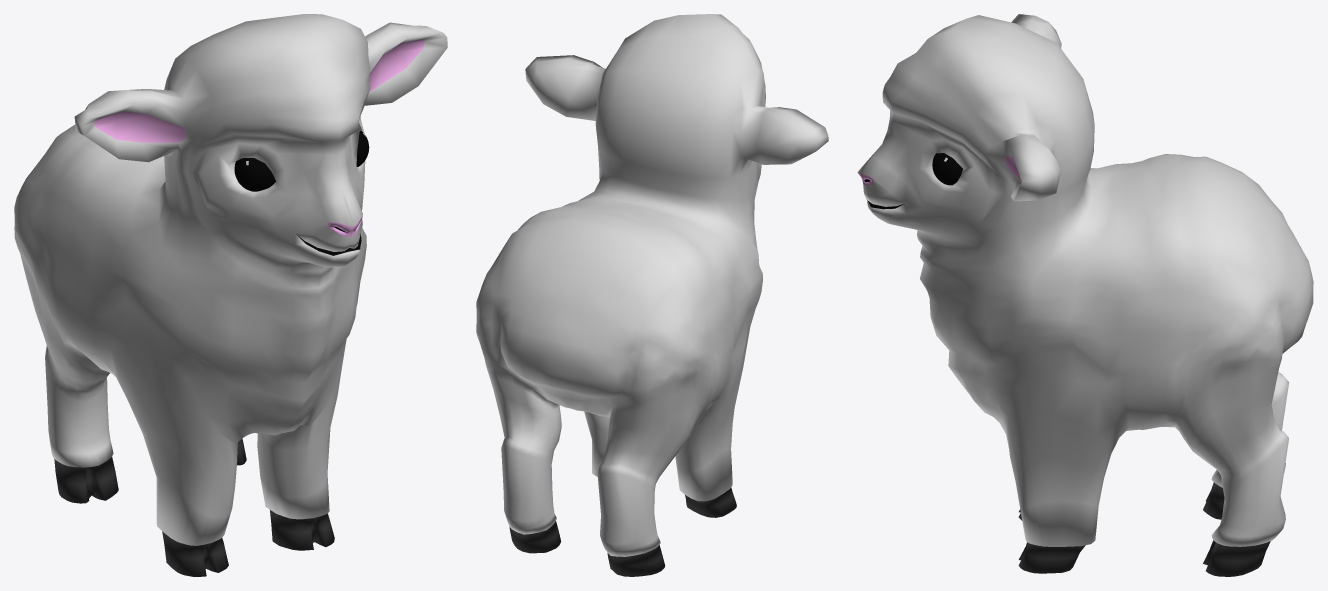
The model's file is sheep_1784489105472_model.glb.
3 renders of one model, left to right at view 1: azimuth 30°, elevation 25°; view 2: azimuth 150°, elevation 25°; view 3: azimuth 270°, elevation 25°, orthographic. The views are drawn at different scales.
Visible parts, largest first — view 1: Plane; view 2: Plane; view 3: Plane.
Part boxes in pixels (x1,y1,x2,y2): Plane: [14, 14, 447, 576]; Plane: [476, 14, 828, 576]; Plane: [857, 14, 1313, 576].
Bounding box in the file's own units: 3.53 × 5.13 × 4.16.
